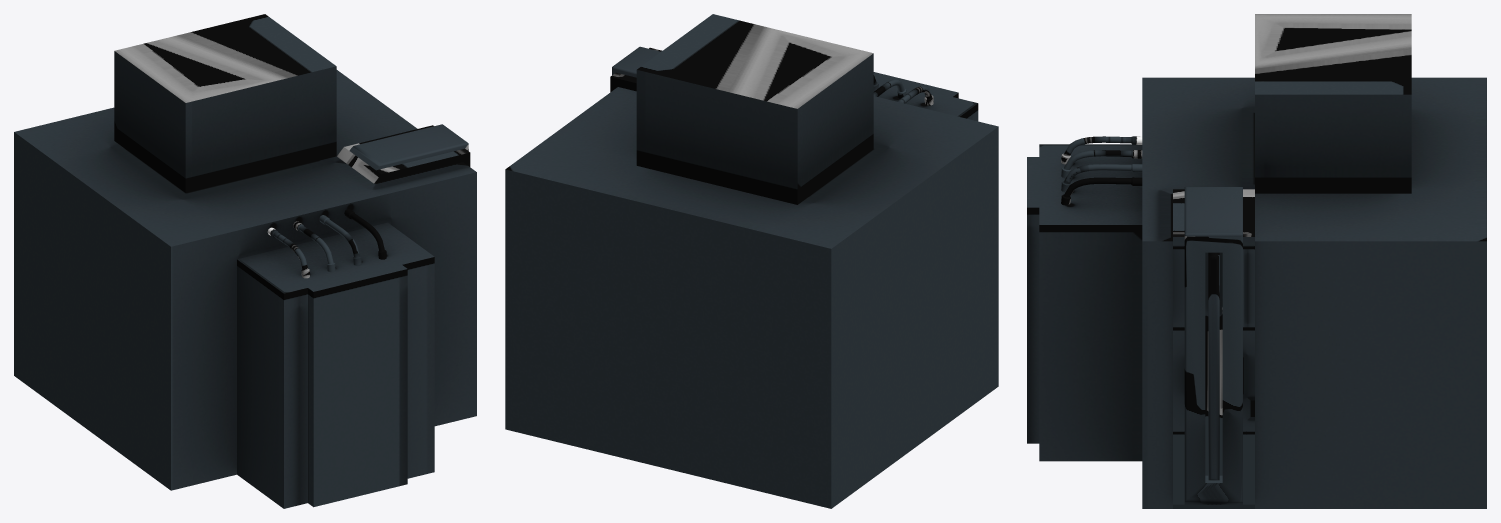
Rendered from bitcoinomatic_sp.obj.
3 views of the same model, side by side, from view 1: azimuth 30°, elevation 25°; view 2: azimuth 150°, elevation 25°; view 3: azimuth 270°, elevation 25° (orthographic). The views are drawn at different scales.
Visible parts, largest first — view 1: Main_Mesh, Front_Mesh.007, Wires_Mesh.009; view 2: Main_Mesh, Front_Mesh.007, Wires_Mesh.009; view 3: Main_Mesh, Front_Mesh.007, Emissive_Mesh.008, Wires_Mesh.009.
Part boxes in pixels (x1,y1,x2,y2): Main_Mesh: (14, 14, 476, 508); Front_Mesh.007: (337, 124, 470, 183); Wires_Mesh.009: (267, 209, 386, 278); Main_Mesh: (505, 14, 998, 508); Front_Mesh.007: (610, 46, 662, 92); Wires_Mesh.009: (873, 75, 933, 105); Main_Mesh: (1027, 14, 1486, 508); Front_Mesh.007: (1173, 187, 1254, 508); Emissive_Mesh.008: (1208, 252, 1219, 480); Wires_Mesh.009: (1061, 136, 1142, 205).
Bounding box in the file's own units: 13.75 × 13.69 × 15.57.
Materials: 4 (4 with a texture image).
